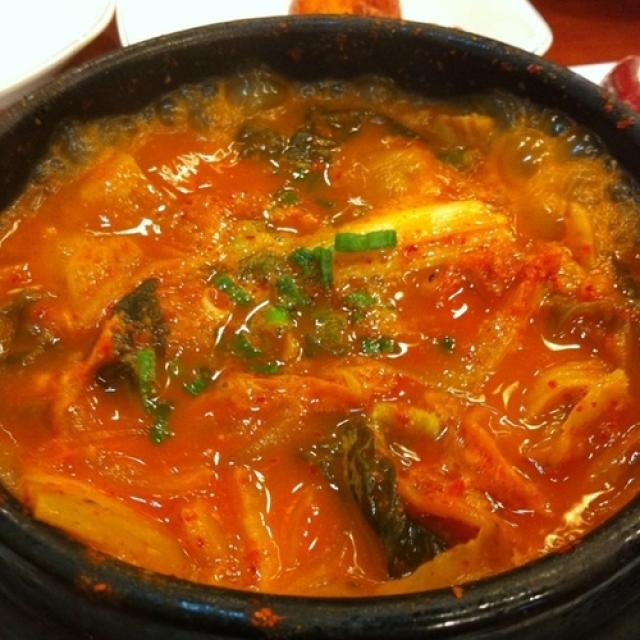汤锅炖物: (4, 12, 637, 602)
